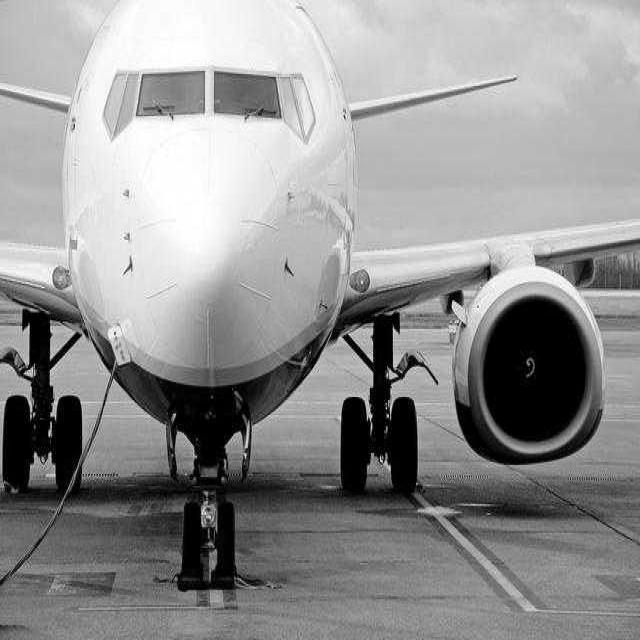Aircraft: (4, 8, 618, 586)
